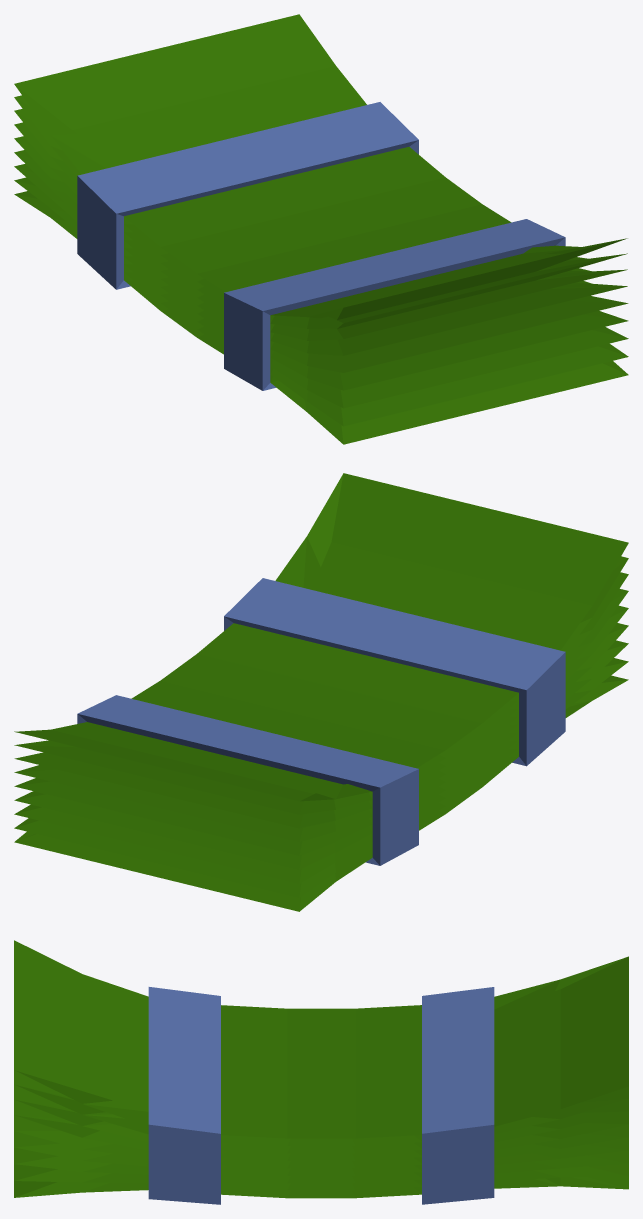
File: cashbundle.gltf
3 views of the same model, one above another, from view 1: azimuth 30°, elevation 25°; view 2: azimuth 150°, elevation 25°; view 3: azimuth 270°, elevation 25° (orthographic). The views are drawn at different scales.
Visible parts, largest first — view 1: Cube; view 2: Cube; view 3: Cube.
Part boxes in pixels (<box>): Cube: <box>14,14,628,444</box>; Cube: <box>14,473,628,911</box>; Cube: <box>14,940,628,1204</box>.
Size of the model in its own units: 2.12 by 0.9389 by 4.
